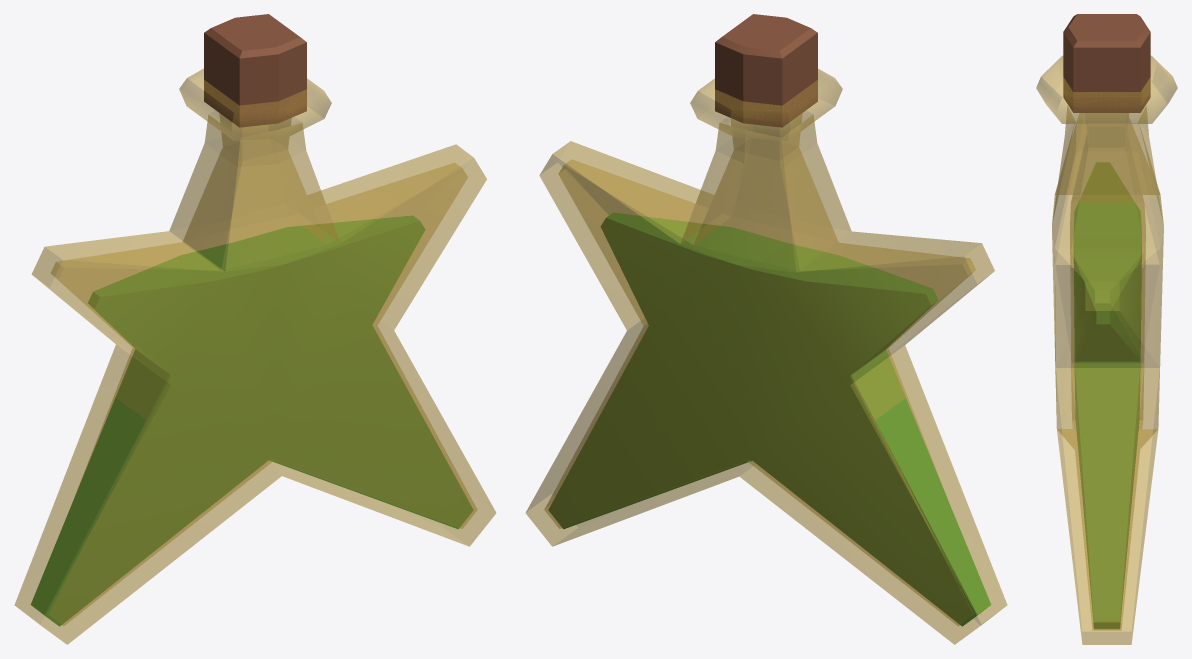
File: potionB.fbx
The picture shows the model from 3 angles, left to right: view 1: azimuth 30°, elevation 25°; view 2: azimuth 150°, elevation 25°; view 3: azimuth 270°, elevation 25°; orthographic projection. The views are drawn at different scales.
Parts seen in each view (by area): view 1: pCube37; view 2: pCube37; view 3: pCube37.
Boxes of the visible parts, x1=… form: pCube37: x1=14, y1=14, x2=495, y2=644; pCube37: x1=526, y1=14, x2=1007, y2=644; pCube37: x1=1036, y1=14, x2=1177, y2=644.
Size of the model in its own units: 124 by 144 by 35.18.
